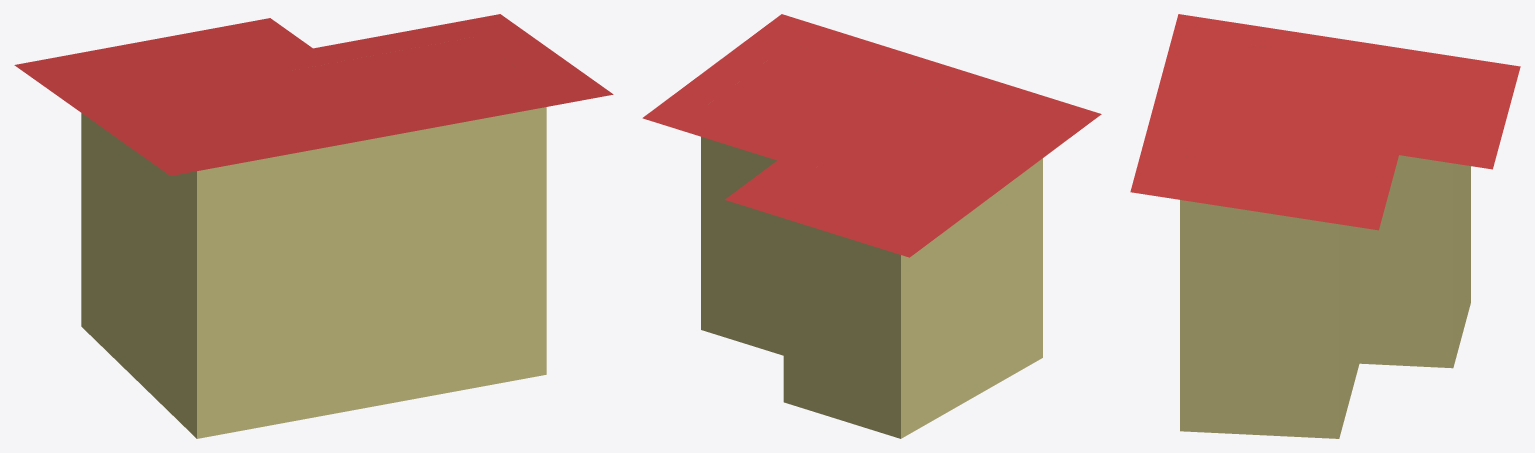
The picture shows the model from 3 angles, left to right: view 1: azimuth 30°, elevation 25°; view 2: azimuth 150°, elevation 25°; view 3: azimuth 270°, elevation 25°; orthographic projection. The views are drawn at different scales.
Bounding box in the file's own units: 10.02 × 8.69 × 6.28.
